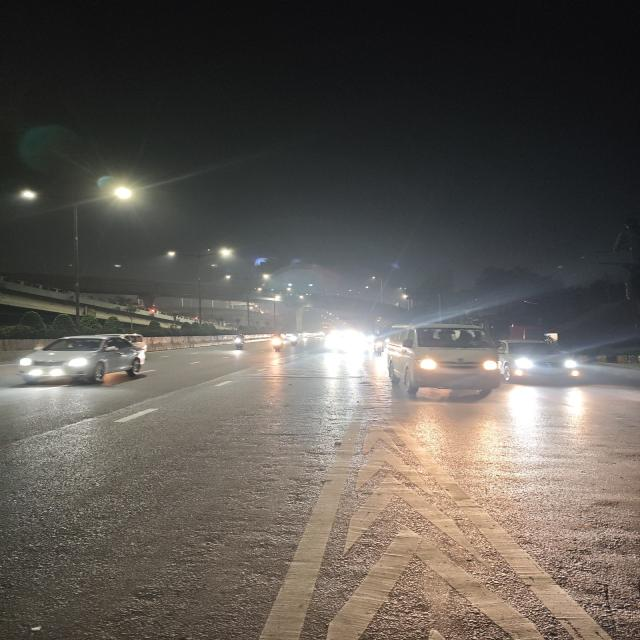car: (379, 322, 509, 402), (11, 330, 159, 392), (506, 338, 592, 388)
motorcycle: (266, 332, 288, 353), (232, 329, 244, 351)
